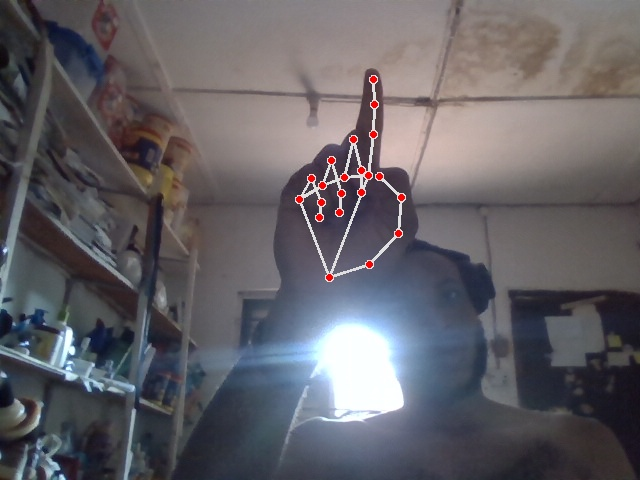number1: (273, 69, 418, 306)
